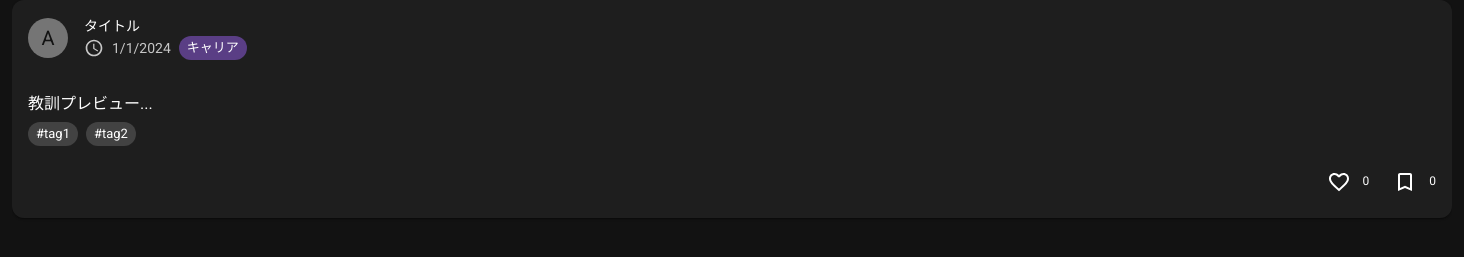
Test case: PostCard › increments like counter on successful reaction update
Click the button named "共感": [1338, 182] box x1=1318 y1=162 x2=1358 y2=202
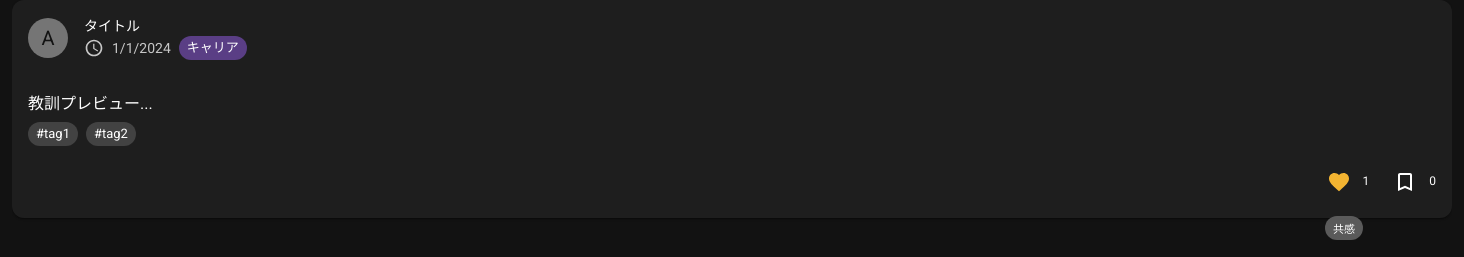
Check: the text "1" is shown, box x1=1362 y1=172 x2=1369 y2=192
